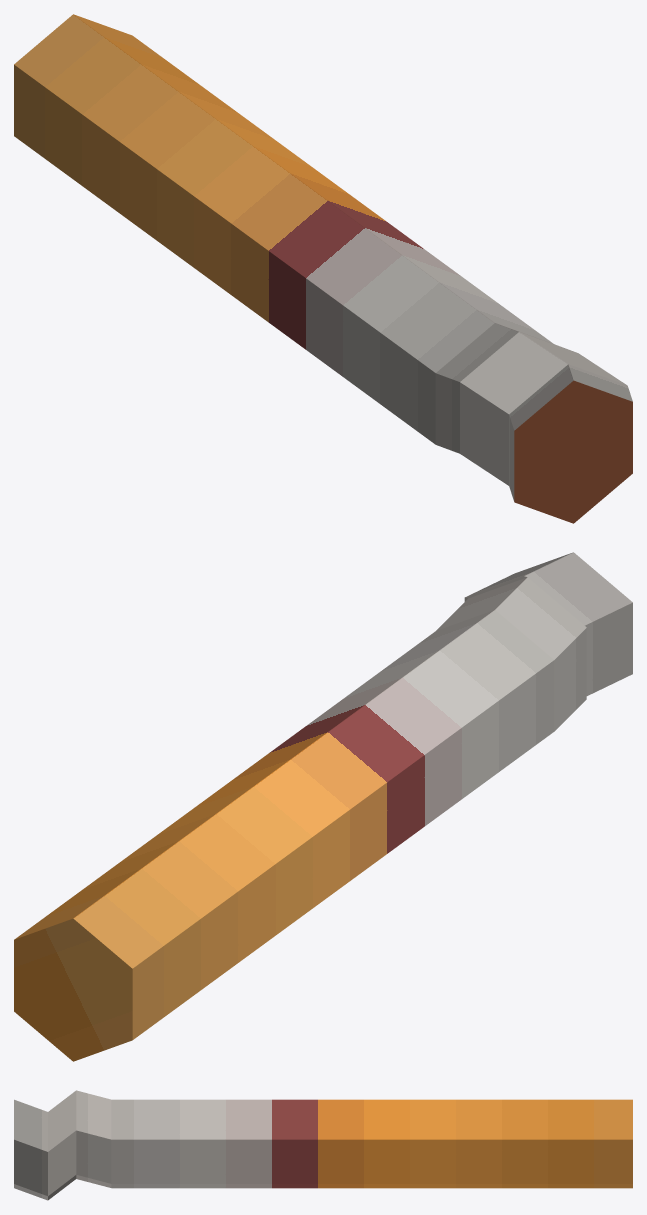
Rendered from Cigarette6.fbx.
3 views of the same model, one above another, from view 1: azimuth 30°, elevation 25°; view 2: azimuth 150°, elevation 25°; view 3: azimuth 270°, elevation 25° (orthographic). The views are drawn at different scales.
Visible parts, largest first — view 1: Cigarette6; view 2: Cigarette6; view 3: Cigarette6.
Boxes of the visible parts, x1,y1,x2,y2 form: Cigarette6: (14,14,632,523); Cigarette6: (14,552,632,1061); Cigarette6: (14,1090,632,1200).
Bounding box in the file's own units: 0.00681 × 0.00743 × 0.0407.
Materials: 1 (1 with a texture image).
